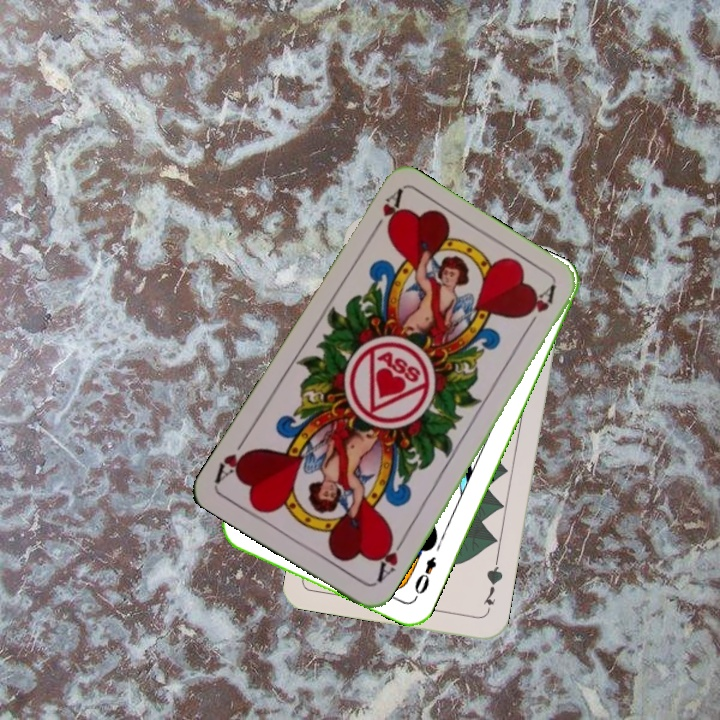EO: (410, 552, 440, 602)
G7: (479, 556, 506, 615)
HA: (366, 187, 405, 241), (373, 530, 408, 586)
